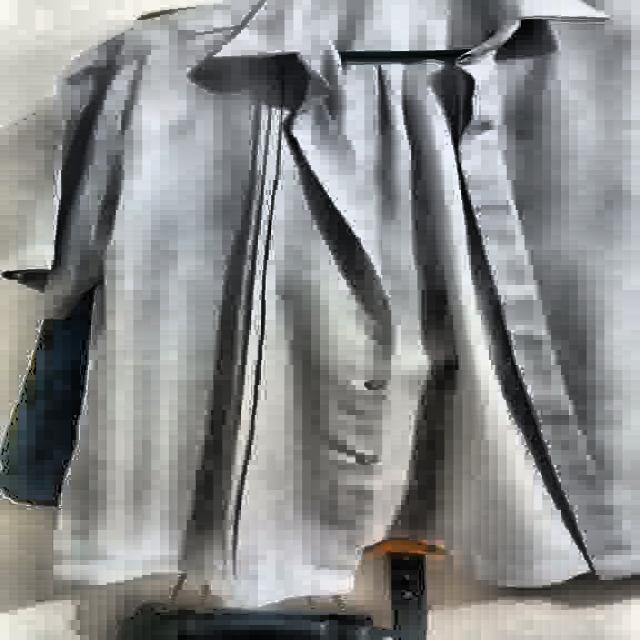clothes: (11, 0, 632, 606)
